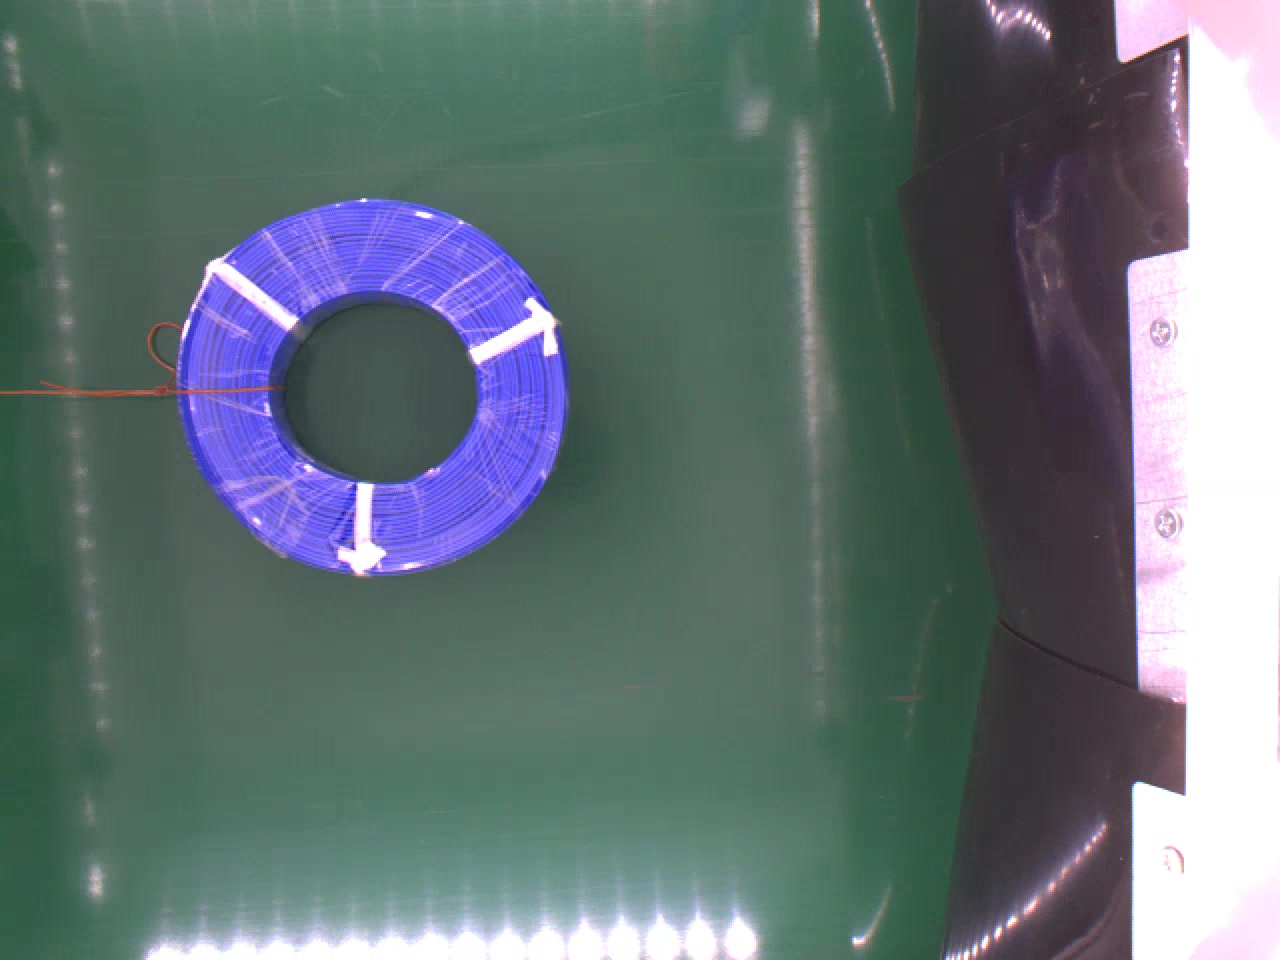blue: (177, 194, 568, 572)
